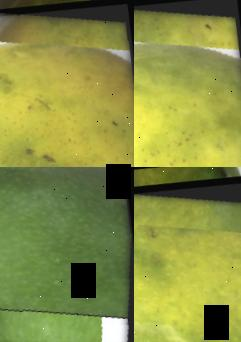PartiallyRipe: (134, 169, 241, 342), (134, 0, 241, 167)
Ripe: (0, 0, 134, 167)
Unripe: (0, 167, 134, 342)
